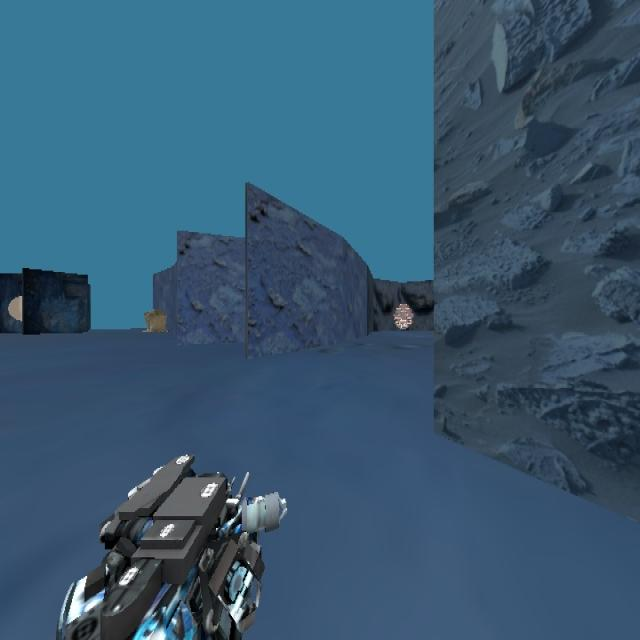Circle: (6, 291, 34, 333)
Ice: (134, 288, 179, 343)
Mushroom: (393, 301, 415, 331)
